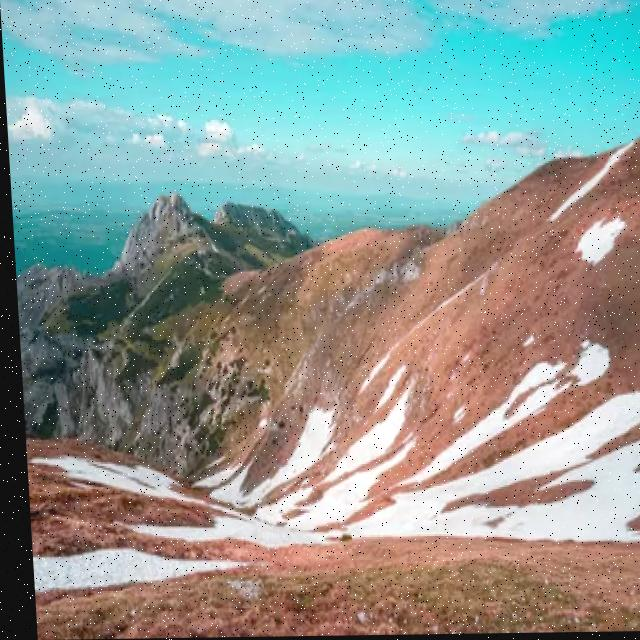Giewont: (118, 125, 227, 261)
Maly giewont: (14, 207, 117, 331)
